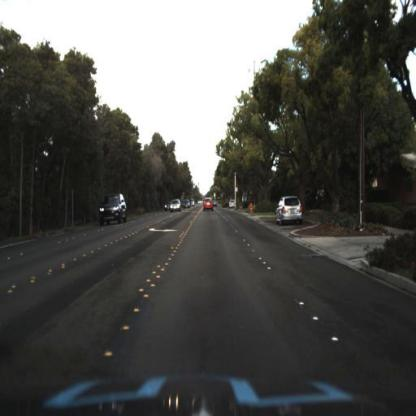car: (96, 189, 132, 229), (275, 193, 304, 225), (202, 192, 218, 215), (169, 197, 183, 215), (170, 198, 184, 214)
